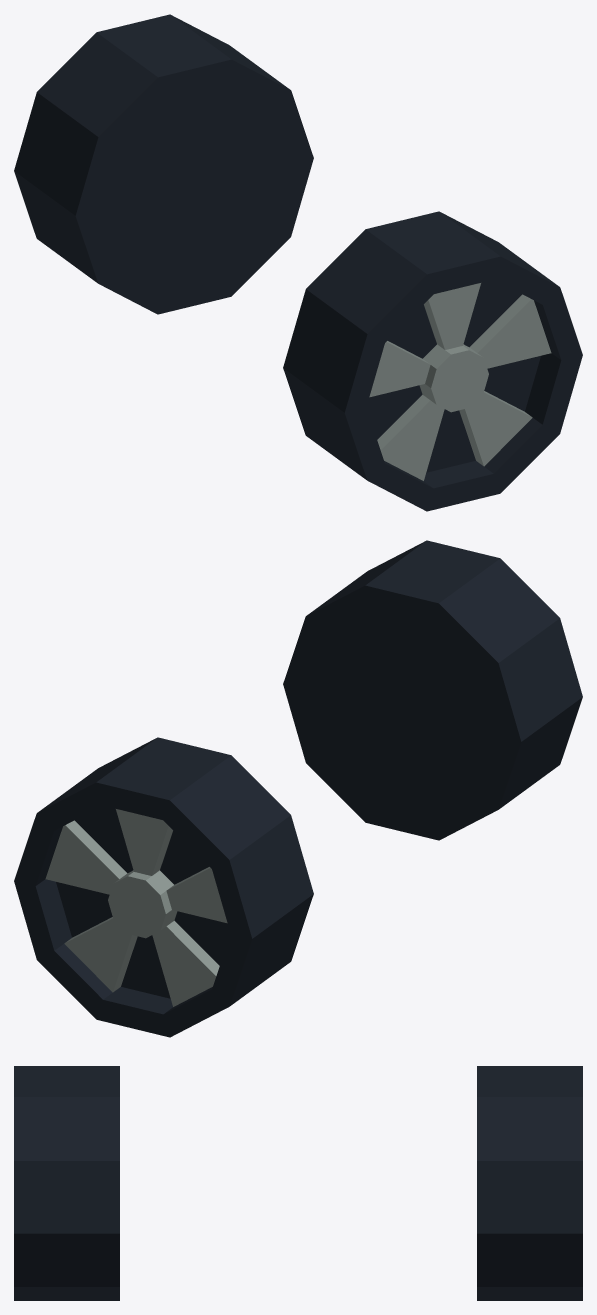
Rendered from RearWheels.glb.
3 renders of one model, top to bottom at view 1: azimuth 30°, elevation 25°; view 2: azimuth 150°, elevation 25°; view 3: azimuth 270°, elevation 25°, orthographic. The views are drawn at different scales.
Parts seen in each view (by area): view 1: Cylinder.063; view 2: Cylinder.063; view 3: Cylinder.063.
Part boxes in pixels (bbox=[...]): Cylinder.063: bbox=[14, 14, 582, 511]; Cylinder.063: bbox=[14, 540, 582, 1037]; Cylinder.063: bbox=[14, 1066, 582, 1300].
Size of the model in its own units: 0.0271 by 0.0258 by 0.0651.
Materials: 1 (1 with a texture image).
